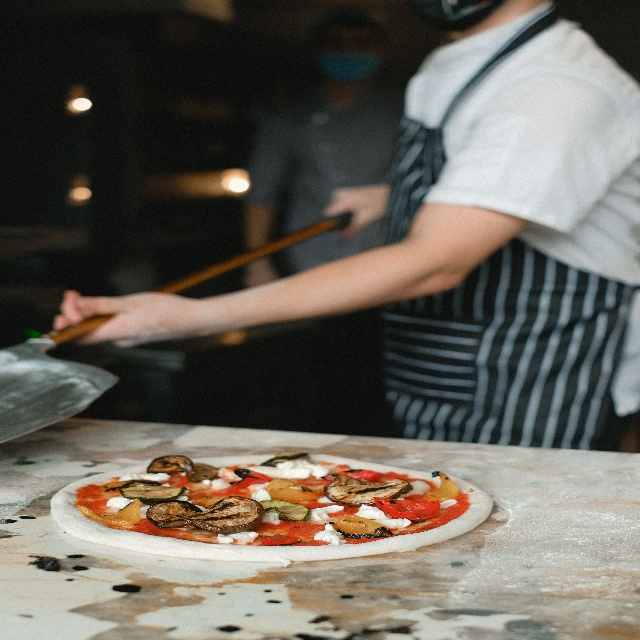Mascara: (434, 0, 507, 34)
Sin_guantes: (52, 285, 202, 348), (320, 183, 392, 240)
